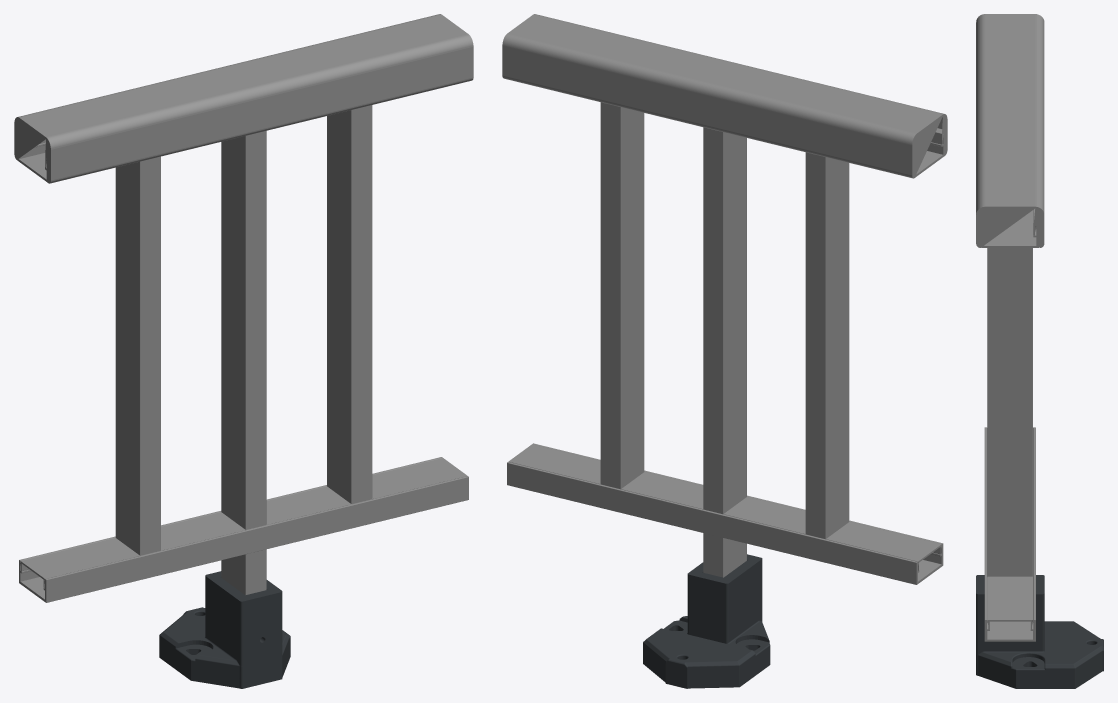
3 renders of one model, left to right at view 1: azimuth 30°, elevation 25°; view 2: azimuth 150°, elevation 25°; view 3: azimuth 270°, elevation 25°, orthographic. The views are drawn at different scales.
Parts seen in each view (by area): view 1: Extrude_12, montante, montante_1, montante_2, Extrude_13, SAPATA_DE_GRADE, Extrude_14, Extrude_6; view 2: Extrude_12, montante, montante_1, montante_2, SAPATA_DE_GRADE, Extrude_13, Extrude_14; view 3: montante_1, Extrude_12, SAPATA_DE_GRADE, Extrude_13, Extrude_14, Extrude_6.
Part boxes in pixels (x1,y1,x2,y2): Extrude_12: [14, 14, 473, 183]; montante: [221, 131, 266, 595]; montante_1: [327, 105, 372, 503]; montante_2: [115, 156, 160, 555]; Extrude_13: [19, 457, 468, 602]; SAPATA_DE_GRADE: [159, 571, 290, 688]; Extrude_14: [20, 458, 467, 587]; Extrude_6: [17, 137, 48, 182]; Extrude_12: [502, 14, 947, 178]; montante: [703, 127, 746, 577]; montante_1: [600, 102, 644, 489]; montante_2: [805, 152, 849, 539]; SAPATA_DE_GRADE: [643, 554, 770, 688]; Extrude_13: [507, 443, 943, 584]; Extrude_14: [508, 444, 941, 570]; montante_1: [987, 248, 1032, 576]; Extrude_12: [976, 14, 1044, 247]; SAPATA_DE_GRADE: [976, 575, 1103, 688]; Extrude_13: [984, 427, 1035, 641]; Extrude_14: [987, 576, 1032, 629]; Extrude_6: [981, 210, 1039, 247].
Size of the model in its own units: 400 by 538 by 112.
Materials: 2 (1 with a texture image).
